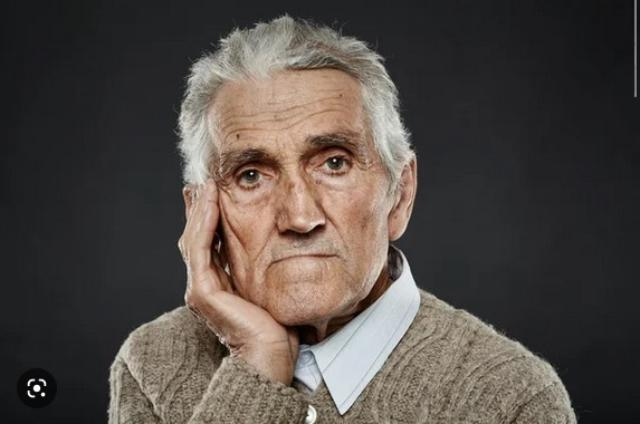crows_feet: (351, 152, 372, 174), (217, 172, 235, 194)
forehead: (304, 92, 344, 120), (267, 108, 297, 132), (222, 118, 255, 136)
gummy_smile: (324, 208, 341, 232)
masseter: (225, 214, 243, 244)
